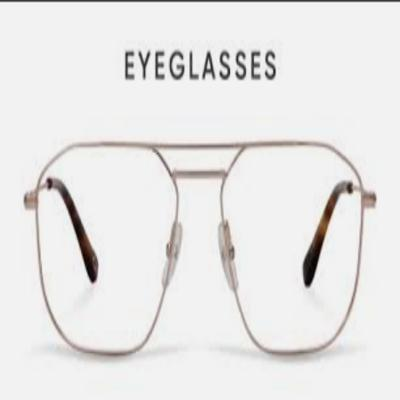glasses: (20, 130, 381, 367)
